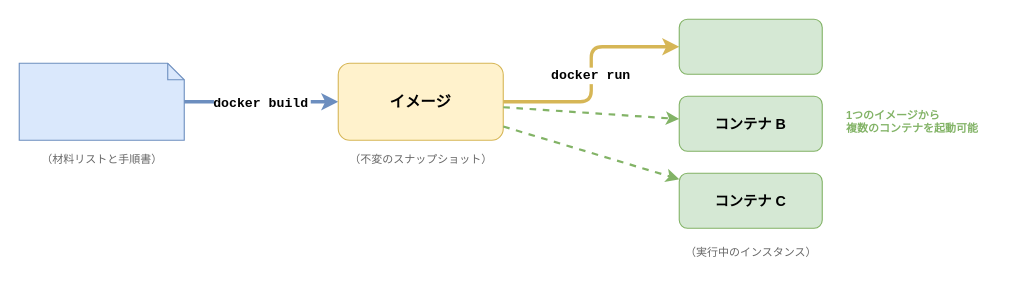
Image size: 1029x281. Some labels were removed from this diagram. The centre of each missing label's shape, as x and y in pixels:
Dockerfile: (101,101)
コンテナ A: (750,46)
